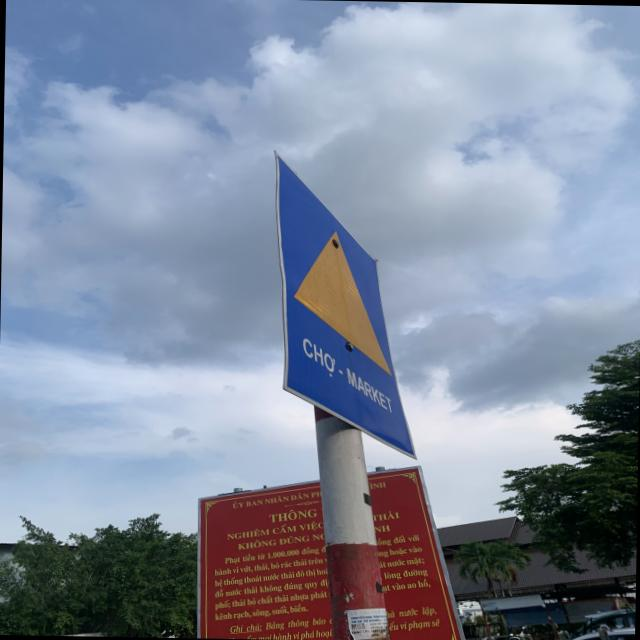Cho_Quay_Xe: (272, 152, 426, 458)
